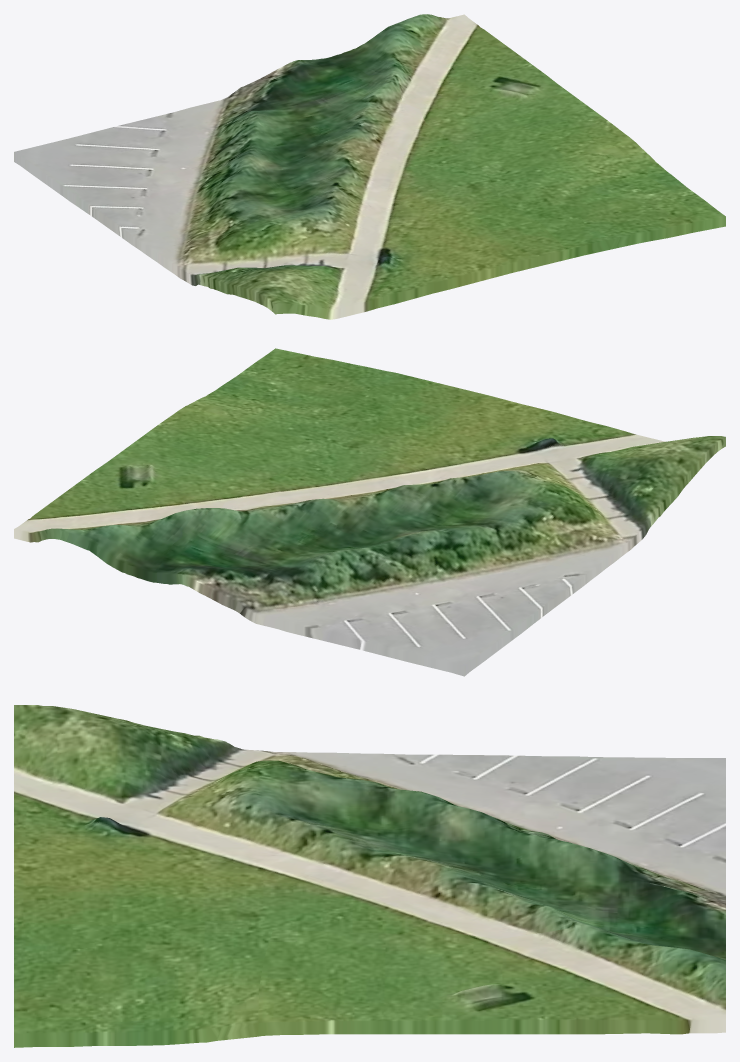
Rendered from z20-167568-405177-h0-yup-uvflip-v3-world.glb.
The picture shows the model from 3 angles, top to bottom: view 1: azimuth 30°, elevation 25°; view 2: azimuth 150°, elevation 25°; view 3: azimuth 270°, elevation 25°; orthographic projection. The views are drawn at different scales.
Size of the model in its own units: 30.16 by 3.12 by 30.32.
Materials: 1 (1 with a texture image).
